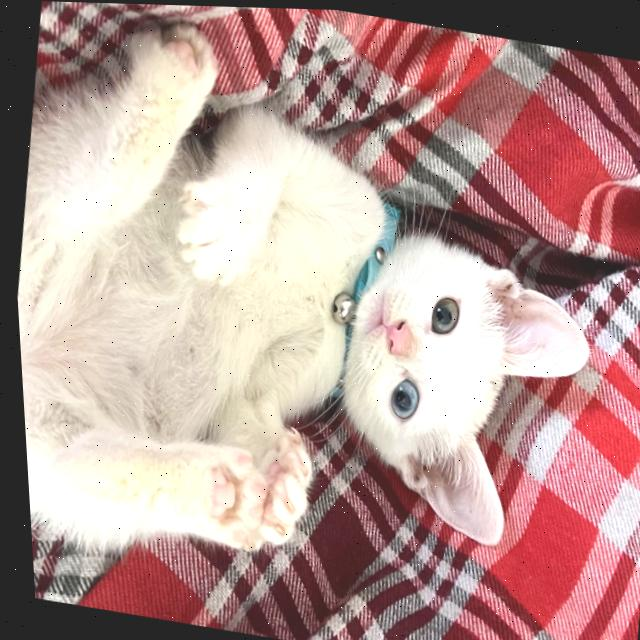Khao Manee: (0, 0, 640, 632)
